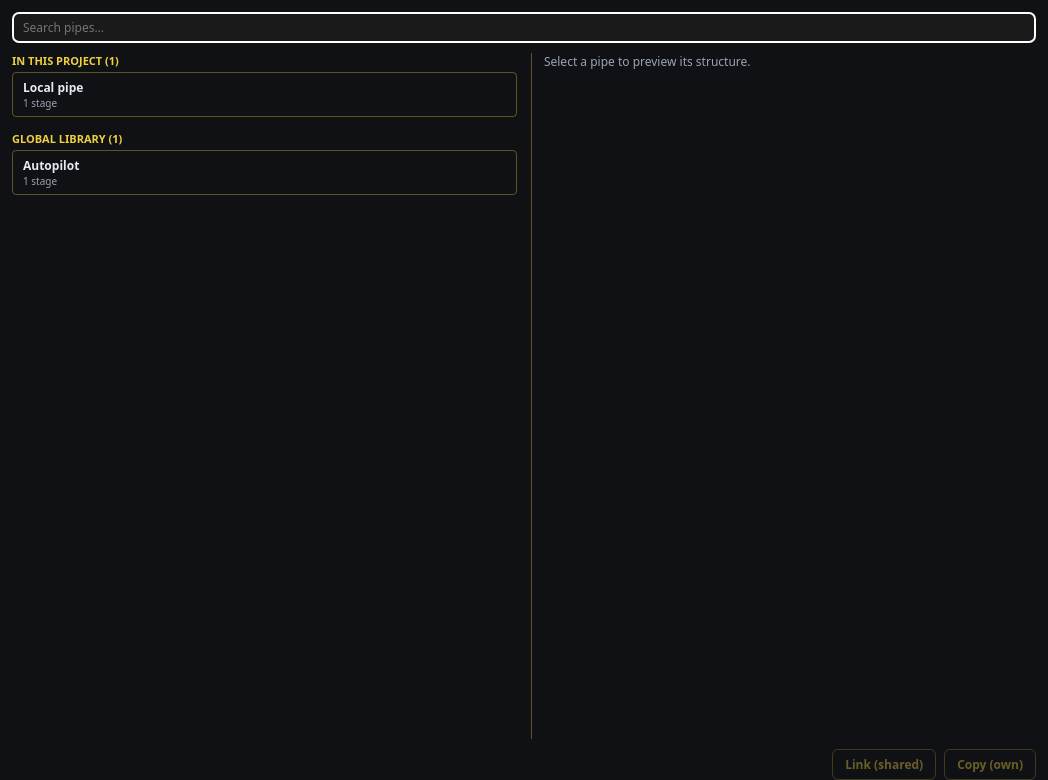
Test: PipeLibraryPanel › filters by search
Type "auto" into the search field with test id "pipe-library-search" at (524, 28), box left=12, top=12, right=1036, bottom=43
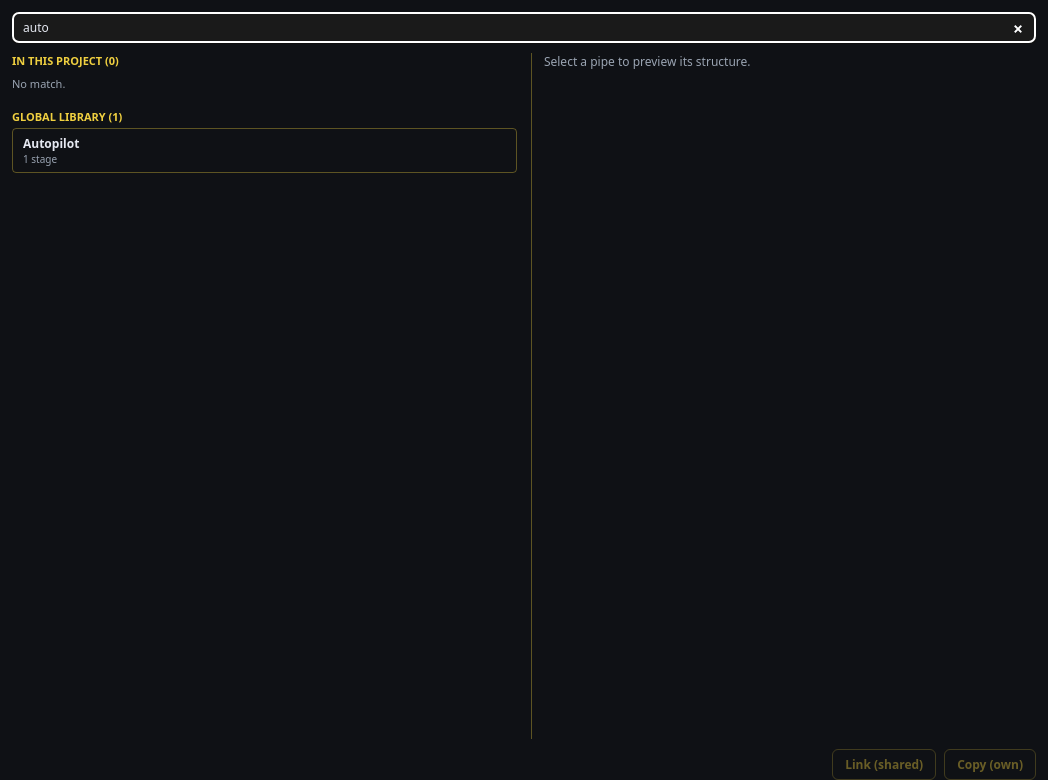
Expected: the button with test id "pipe-library-global-glob" is shown, left=12, top=128, right=517, bottom=173
Expected: the button with test id "pipe-library-project-loc" is gone
